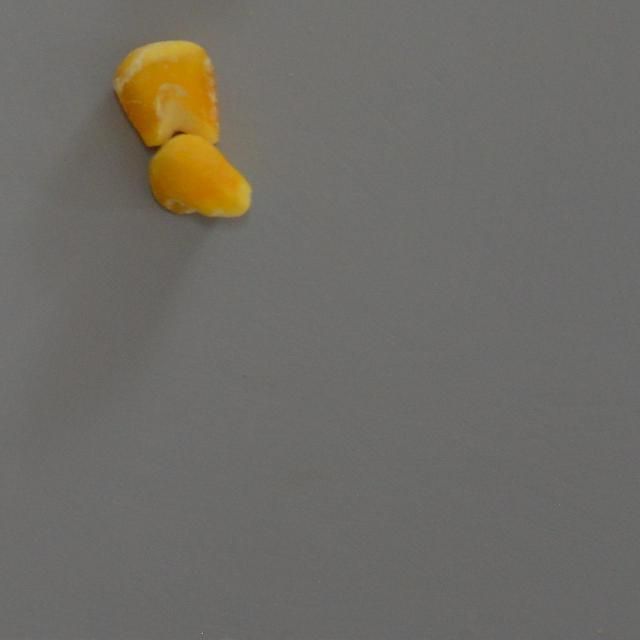no_canjicado: (148, 130, 255, 221)
pelicula: (110, 36, 222, 146)
